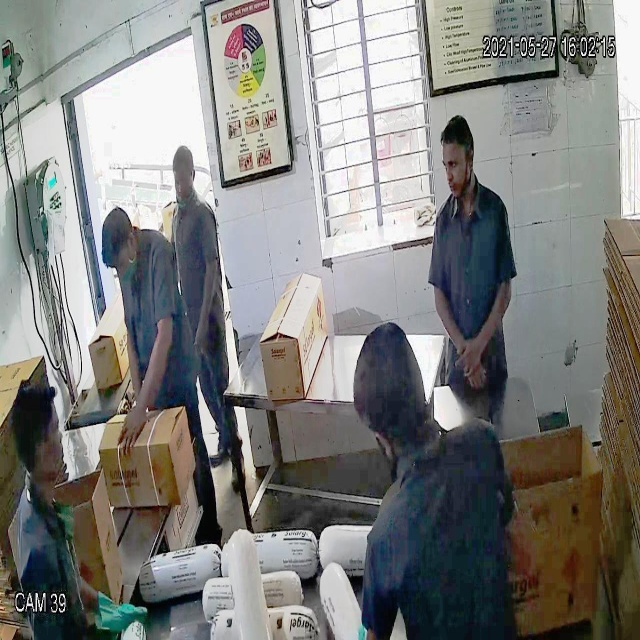Sin_gafas: (437, 149, 474, 181)
